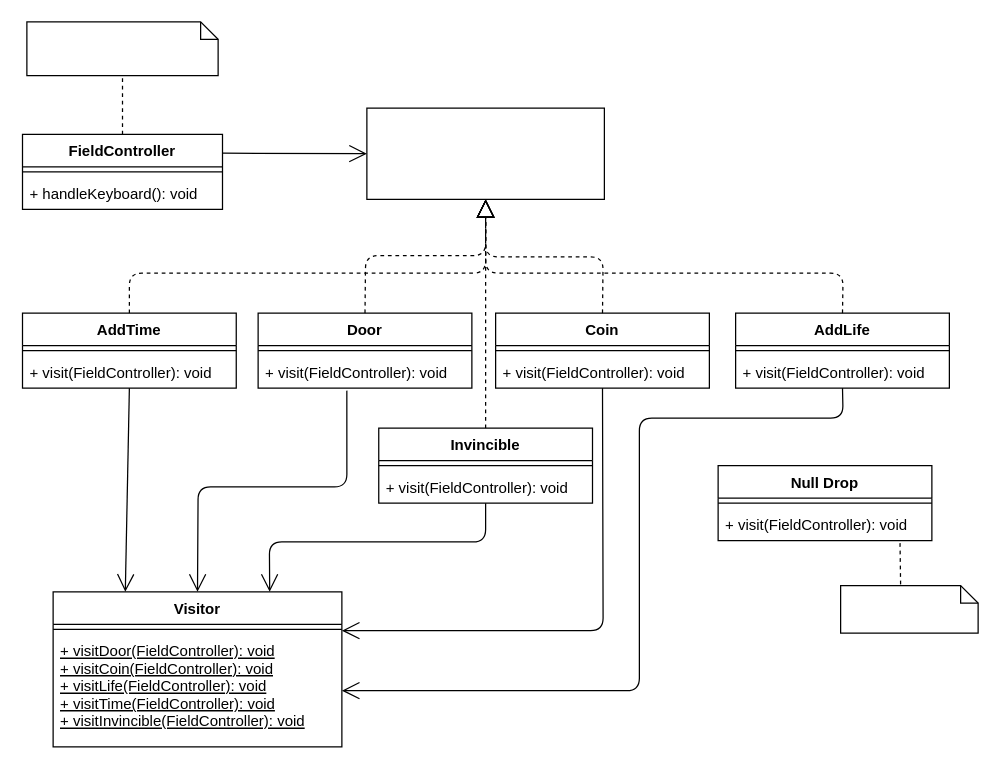
The diagram is 1000 pixels wide and 773 high, and some of its shapes have lost their labels. The shapes that lost their labels are listed below. From the top down, each one's centre as x and y in pixels, then its label:
At pixel 122 48: "Calls visit() of the drop in the tile the hero will move into".
At pixel 485 153: "<<Interface>> Collectible + visit(FieldController): void".
At pixel 908 608: "visit method does nothing".
